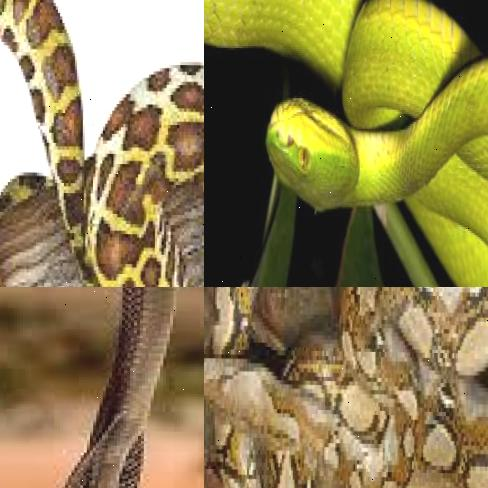snake: (204, 0, 488, 287), (0, 0, 204, 287), (204, 287, 488, 488), (0, 287, 204, 488)
